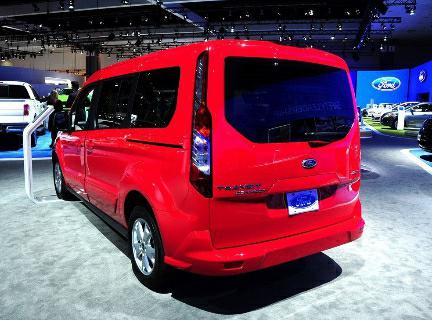福特-Transit: (41, 43, 373, 287)
